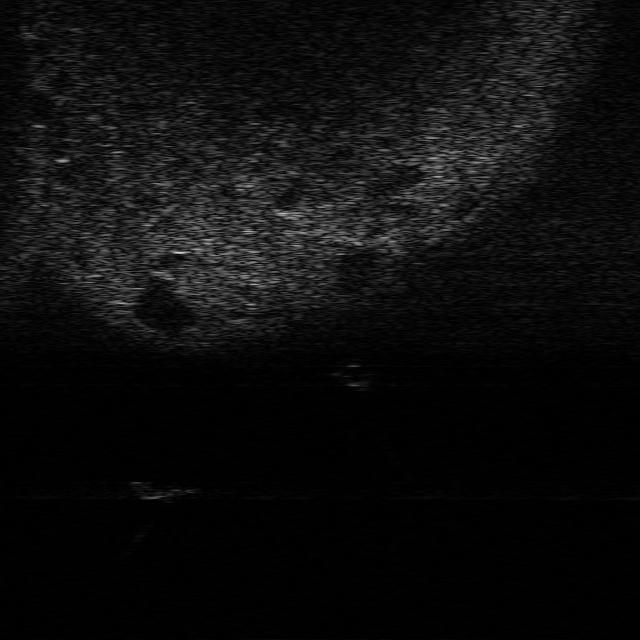ball: (331, 362, 380, 390)
cube: (126, 475, 199, 503)
